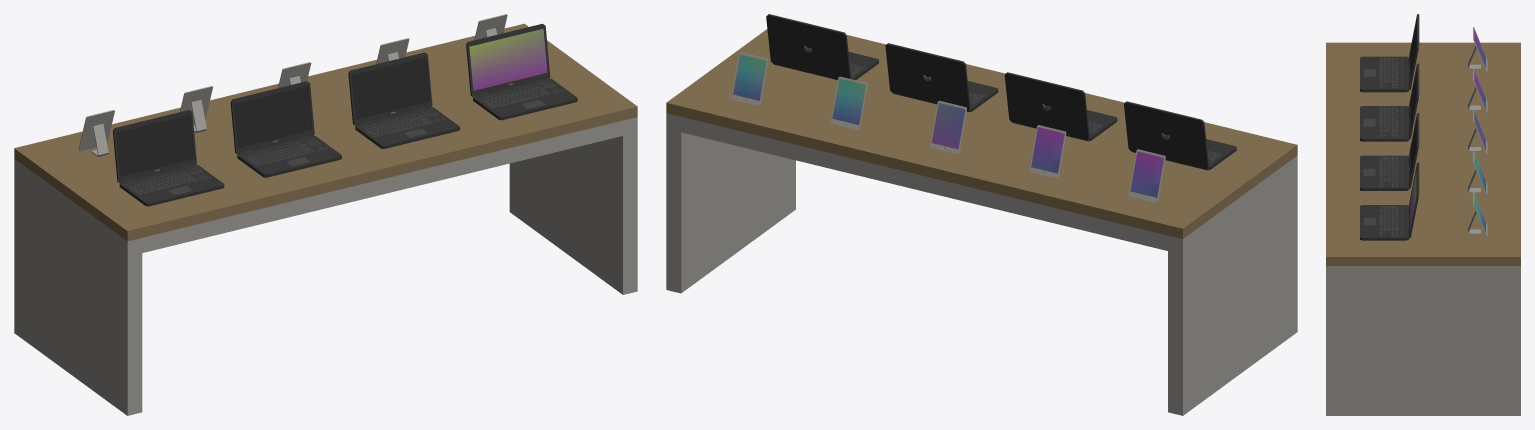
The model's file is SM_Props_Interior_Shop_Electronic_Preset_Desk_Laptop.fbx.
3 views of the same model, side by side, from view 1: azimuth 30°, elevation 25°; view 2: azimuth 150°, elevation 25°; view 3: azimuth 270°, elevation 25° (orthographic). The views are drawn at different scales.
Visible parts, largest first — view 1: SM_Props_Interior_Shop_Electronic_Preset_Desk_Laptop; view 2: SM_Props_Interior_Shop_Electronic_Preset_Desk_Laptop; view 3: SM_Props_Interior_Shop_Electronic_Preset_Desk_Laptop.
Part boxes in pixels (x1=…): SM_Props_Interior_Shop_Electronic_Preset_Desk_Laptop: x1=14, y1=14, x2=637, y2=415; SM_Props_Interior_Shop_Electronic_Preset_Desk_Laptop: x1=666, y1=14, x2=1297, y2=415; SM_Props_Interior_Shop_Electronic_Preset_Desk_Laptop: x1=1326, y1=14, x2=1520, y2=415.
Size of the model in its own units: 260 by 116 by 100.
